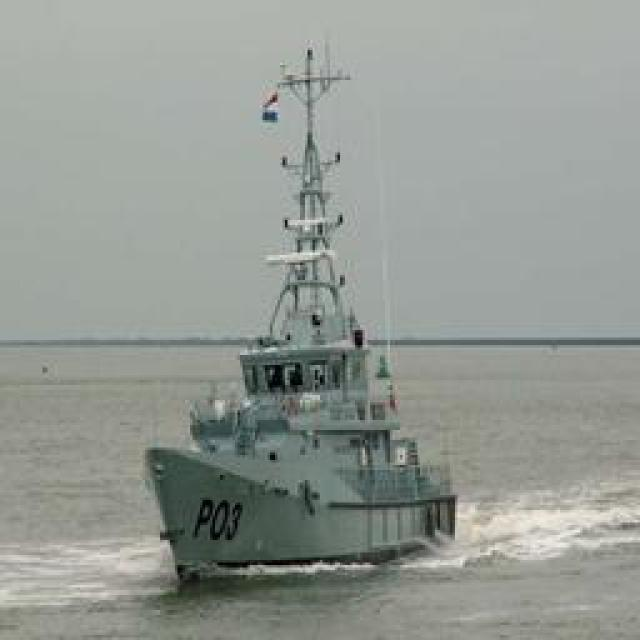Ship: (156, 71, 456, 574)
